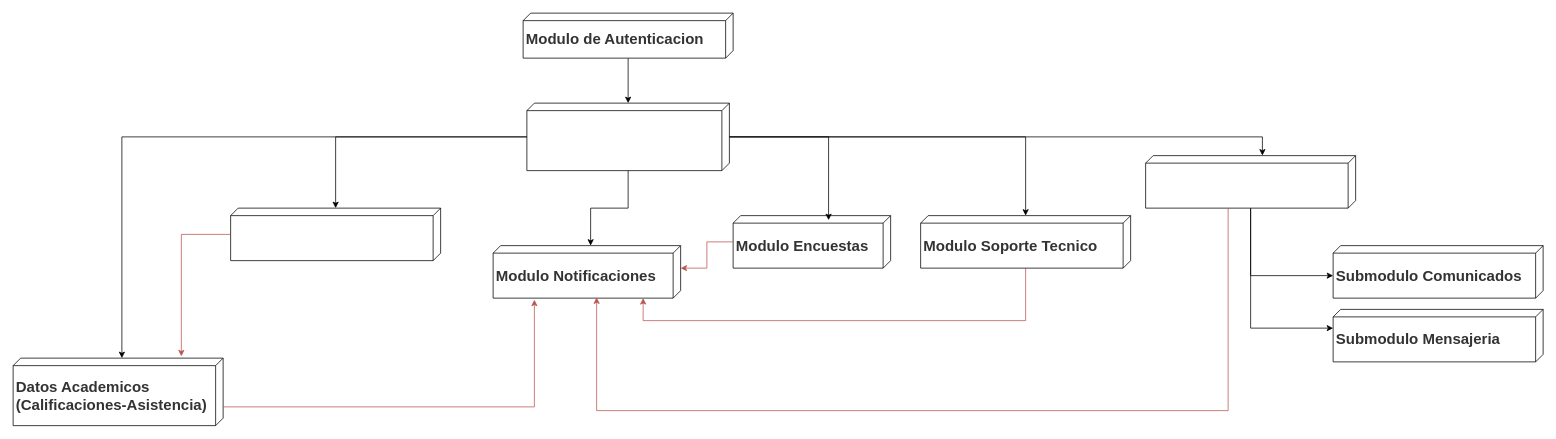
Image size: 1556x439. Some labels were removed from this diagram. Here are the shapes that lost their labels. From the top down, the centre of each, then its label:
At point (627, 136): "Dashboard Principal (Contextualizado por rol)".
At point (1250, 181): "Modulo Comunicacion".
At point (335, 234): "Modulo Gestión Usuarios".
